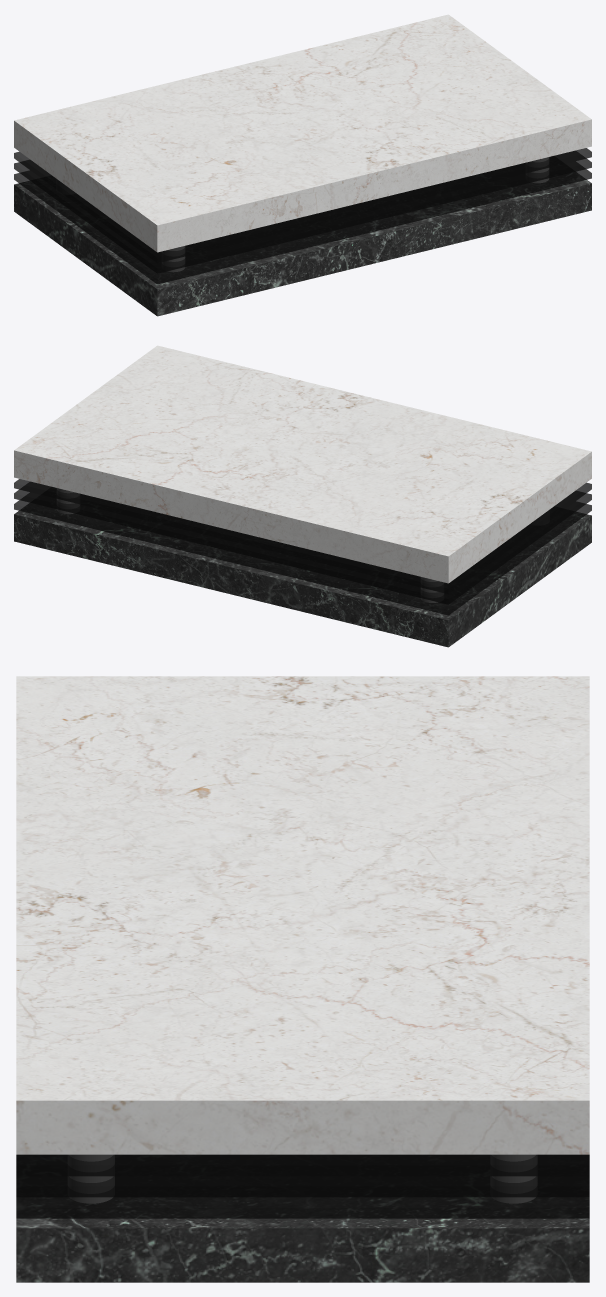
File: marble__glass_coffee_table.glb
The picture shows the model from 3 angles, top to bottom: view 1: azimuth 30°, elevation 25°; view 2: azimuth 150°, elevation 25°; view 3: azimuth 270°, elevation 25°; orthographic projection. The views are drawn at different scales.
Parts seen in each view (by area): view 1: Marble Top_4, Marble Bottom_3, Frosted Glass 2_1, Frosted Glass 3_2, Frosted Glass 1_0; view 2: Marble Top_4, Marble Bottom_3, Frosted Glass 2_1, Frosted Glass 3_2, Frosted Glass 1_0; view 3: Marble Top_4, Marble Bottom_3, Frosted Glass 2_1, Frosted Glass 3_2, Frosted Glass 1_0, Stands_6.
Part boxes in pixels (x1,y1,x2,y2): Marble Top_4: [14, 14, 591, 252]; Marble Bottom_3: [14, 172, 591, 316]; Frosted Glass 2_1: [14, 151, 591, 273]; Frosted Glass 3_2: [14, 162, 591, 284]; Frosted Glass 1_0: [14, 148, 591, 263]; Marble Top_4: [14, 345, 591, 583]; Marble Bottom_3: [14, 503, 591, 647]; Frosted Glass 2_1: [14, 482, 591, 604]; Frosted Glass 3_2: [14, 493, 591, 615]; Frosted Glass 1_0: [14, 479, 591, 594]; Marble Top_4: [16, 676, 589, 1154]; Marble Bottom_3: [16, 1197, 589, 1282]; Frosted Glass 2_1: [16, 1155, 589, 1197]; Frosted Glass 3_2: [16, 1177, 589, 1218]; Frosted Glass 1_0: [16, 1154, 589, 1176]; Stands_6: [69, 1155, 535, 1203].
Bounding box in the file's own units: 2.13 × 0.427 × 1.22.
5 materials, 2 textured.
